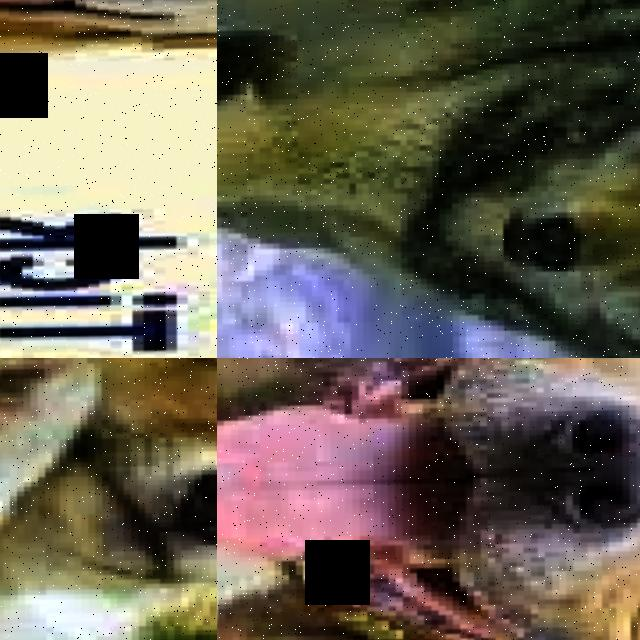dog: (217, 358, 640, 640), (0, 358, 217, 640), (0, 0, 217, 131)
wolf: (217, 0, 640, 358)
